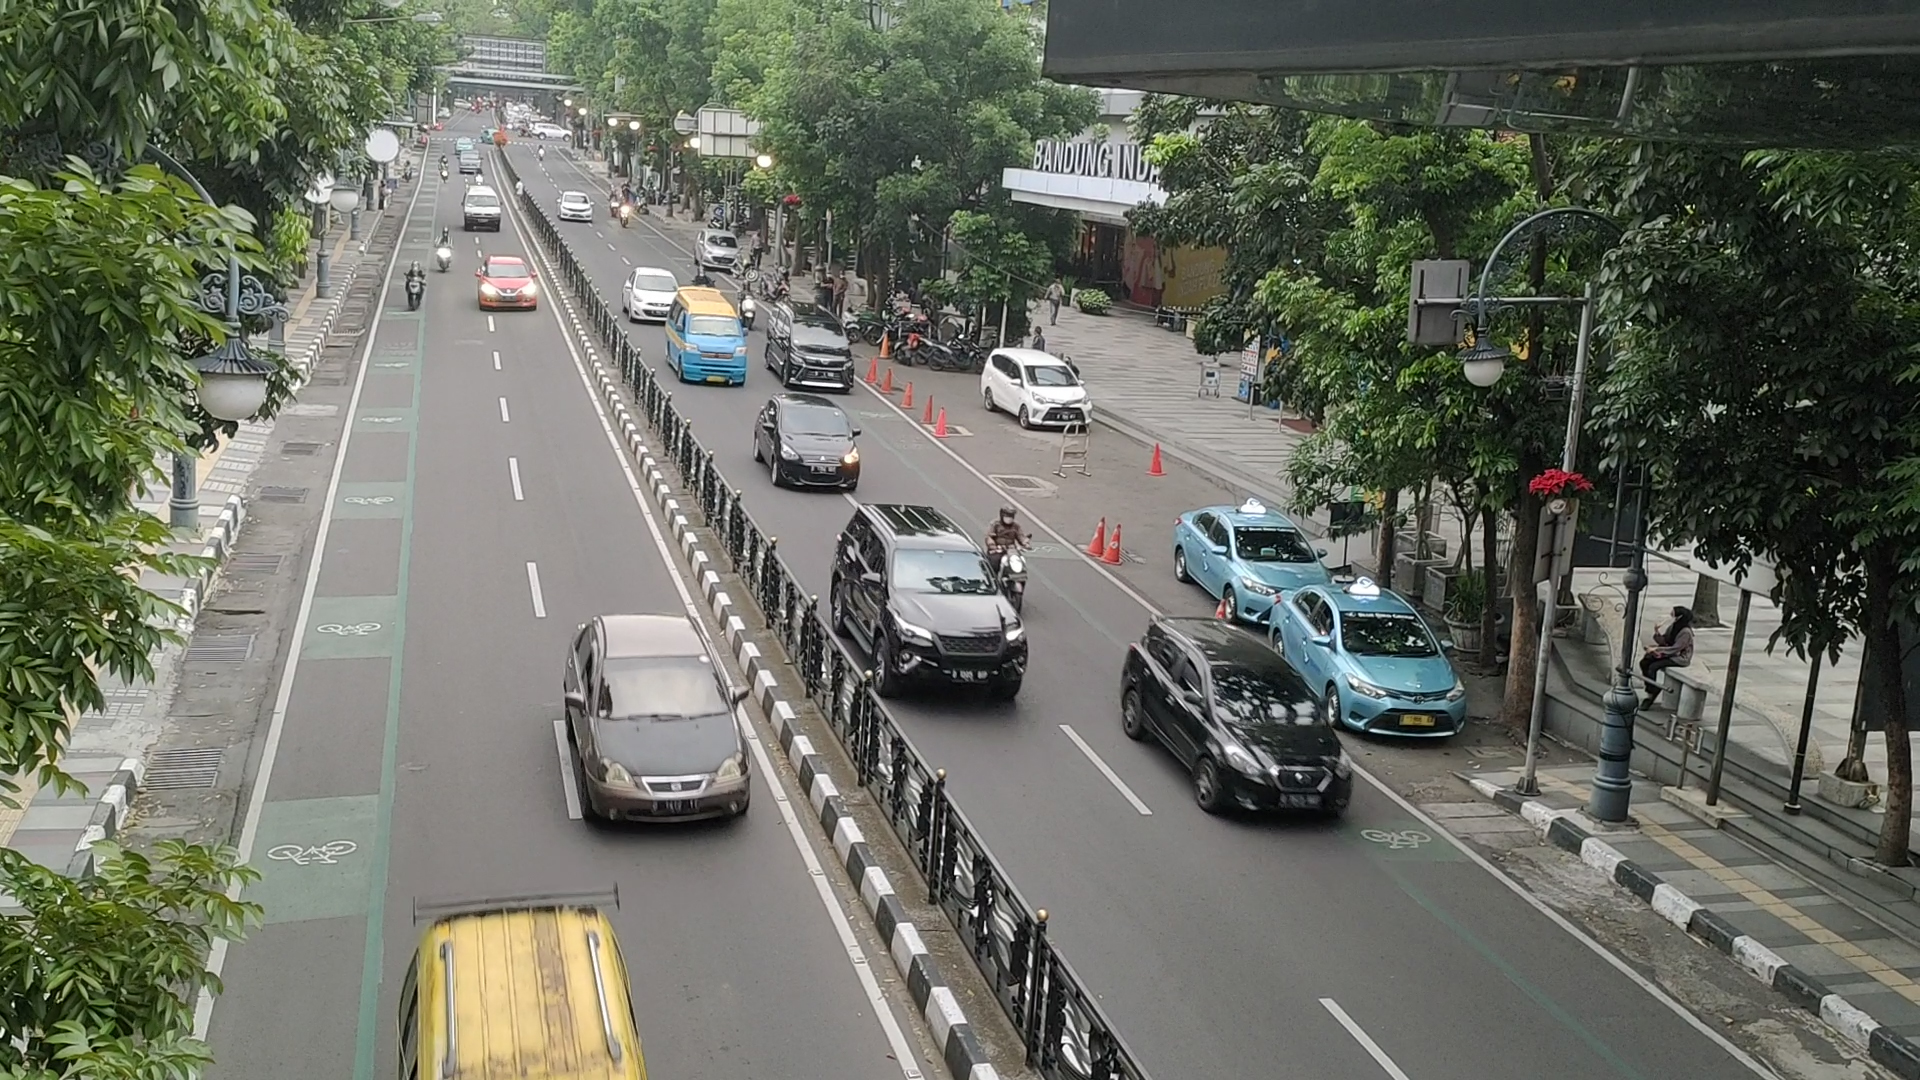mobil: (574, 653, 756, 824), (1197, 655, 1360, 831), (880, 542, 1027, 700), (1329, 608, 1473, 740), (770, 404, 858, 492), (1015, 361, 1093, 435), (676, 310, 746, 390), (783, 315, 852, 392), (477, 260, 541, 315)
motor: (980, 492, 1048, 628)
